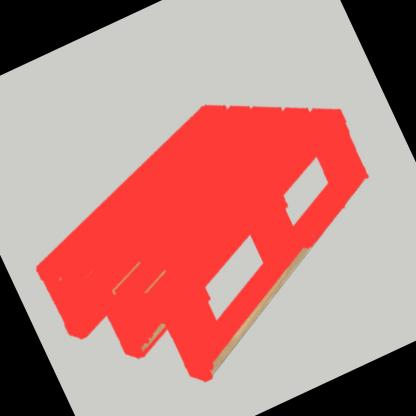BoxFace: (33, 97, 373, 390)
